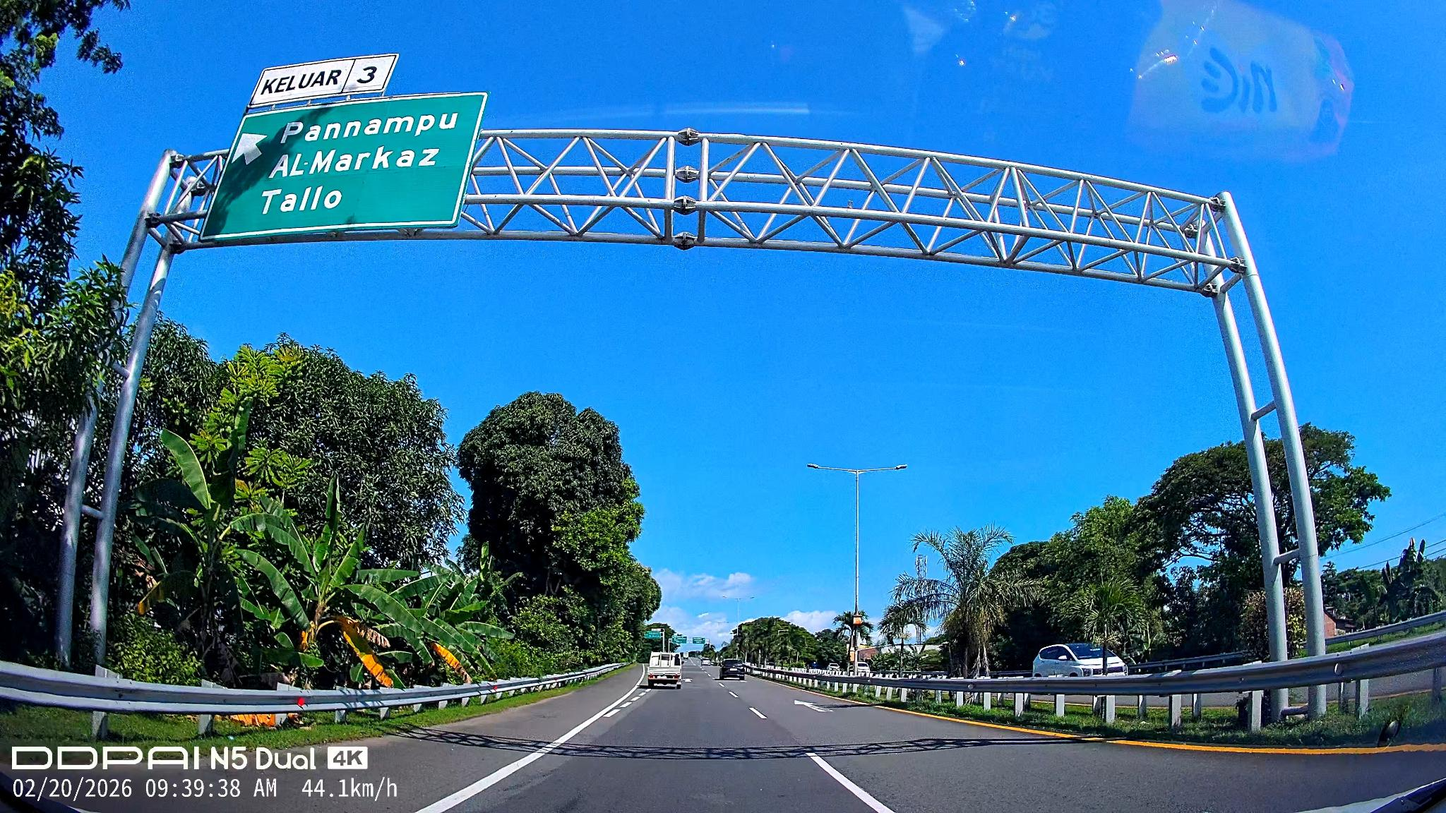rambu_teks: (225, 99, 467, 239)
